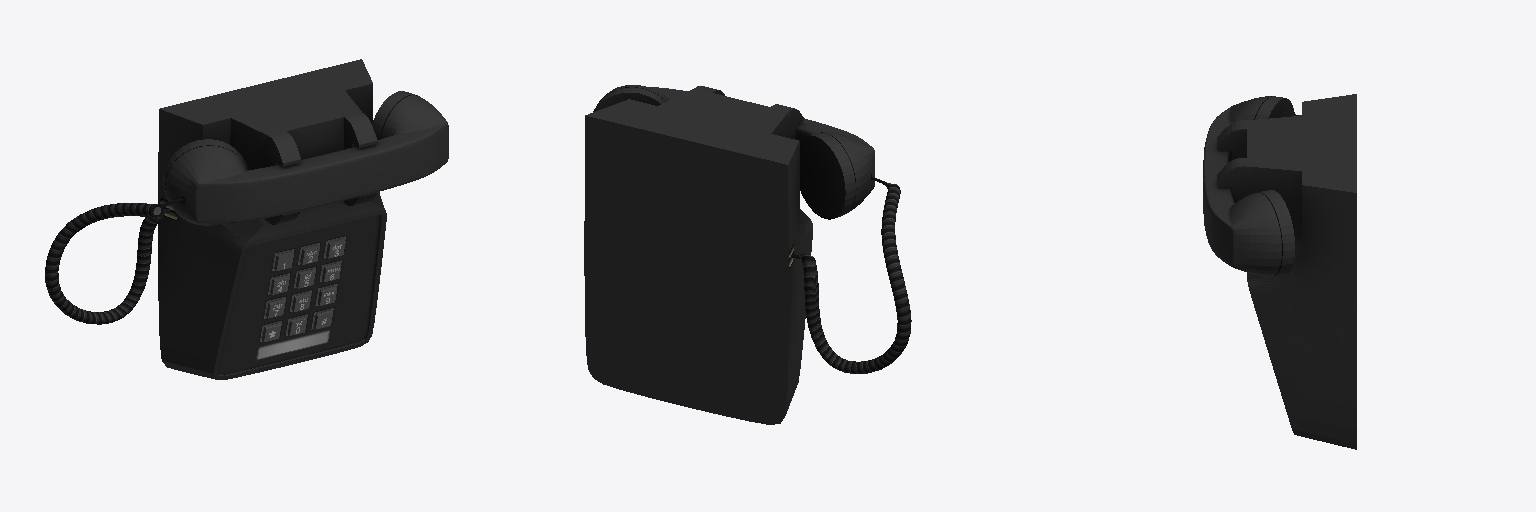
The picture shows the model from 3 angles: view 1: azimuth 30°, elevation 25°; view 2: azimuth 150°, elevation 25°; view 3: azimuth 270°, elevation 25°; orthographic projection.
Parts seen in each view (by area): view 1: phone; view 2: phone; view 3: phone.
Part boxes in pixels (left/top/right/bottom): phone: left=45, top=59, right=448, bottom=379; phone: left=584, top=85, right=911, bottom=424; phone: left=1203, top=94, right=1356, bottom=449.
Bounding box in the file's own units: 34.53 × 24.98 × 13.06.
1 materials, 1 textured.